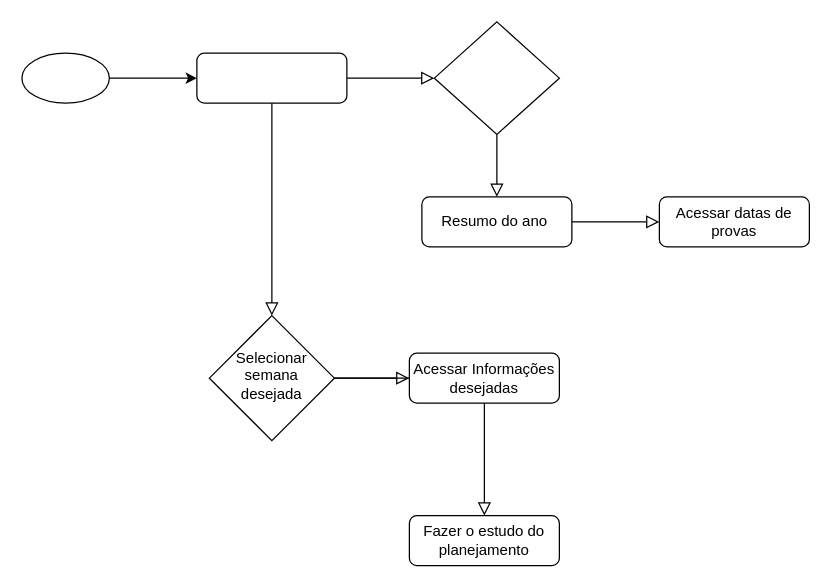
The diagram is 831 pixels wide and 588 high, and some of its shapes have lost their labels. The centre of each missing label's shape, as x and y in pixels:
"Acessar Site" belongs at (x=271, y=77).
"Baixar cronograma geral" belongs at (x=496, y=77).
